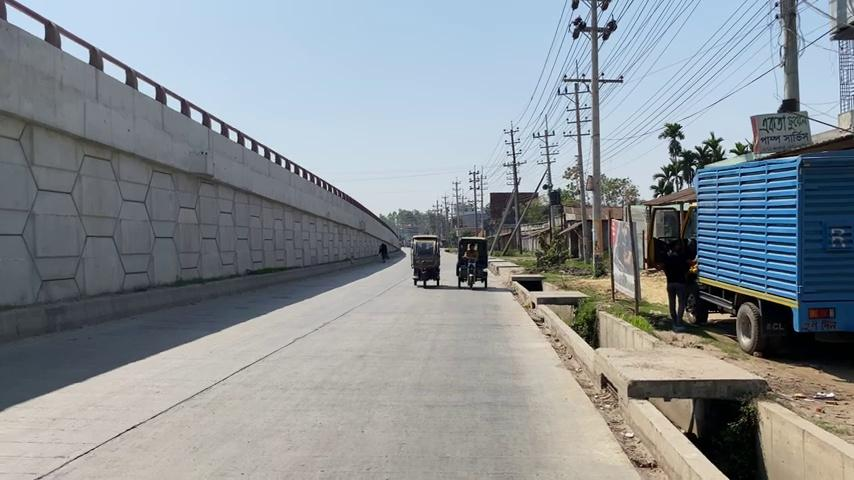Fallen-tree: (1, 0, 402, 337)
Fence: (660, 237, 692, 332), (378, 242, 387, 263)
Garbage: (569, 0, 623, 273), (588, 0, 603, 274), (778, 0, 800, 111)
Garbage-bin: (647, 387, 797, 480), (554, 290, 636, 357)
Muddy road: (456, 236, 488, 289)
Rickshaw: (667, 144, 854, 349), (643, 199, 701, 326), (409, 233, 440, 287)
